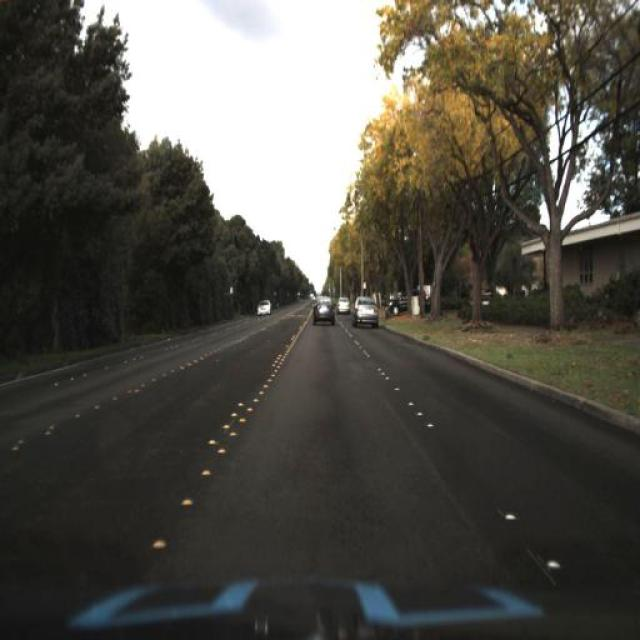car: (384, 282, 430, 318), (348, 291, 384, 334), (305, 290, 339, 328), (251, 294, 274, 324), (254, 298, 274, 324), (335, 293, 351, 318)
